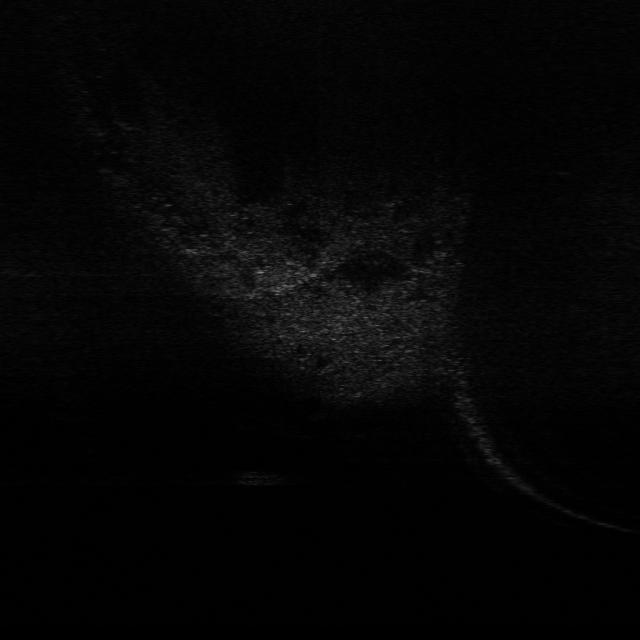cube: (230, 467, 290, 487)
